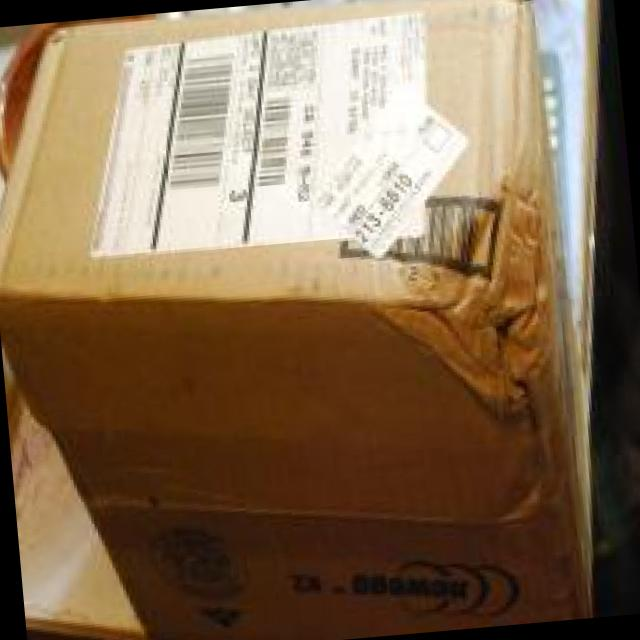box: (132, 60, 493, 586)
